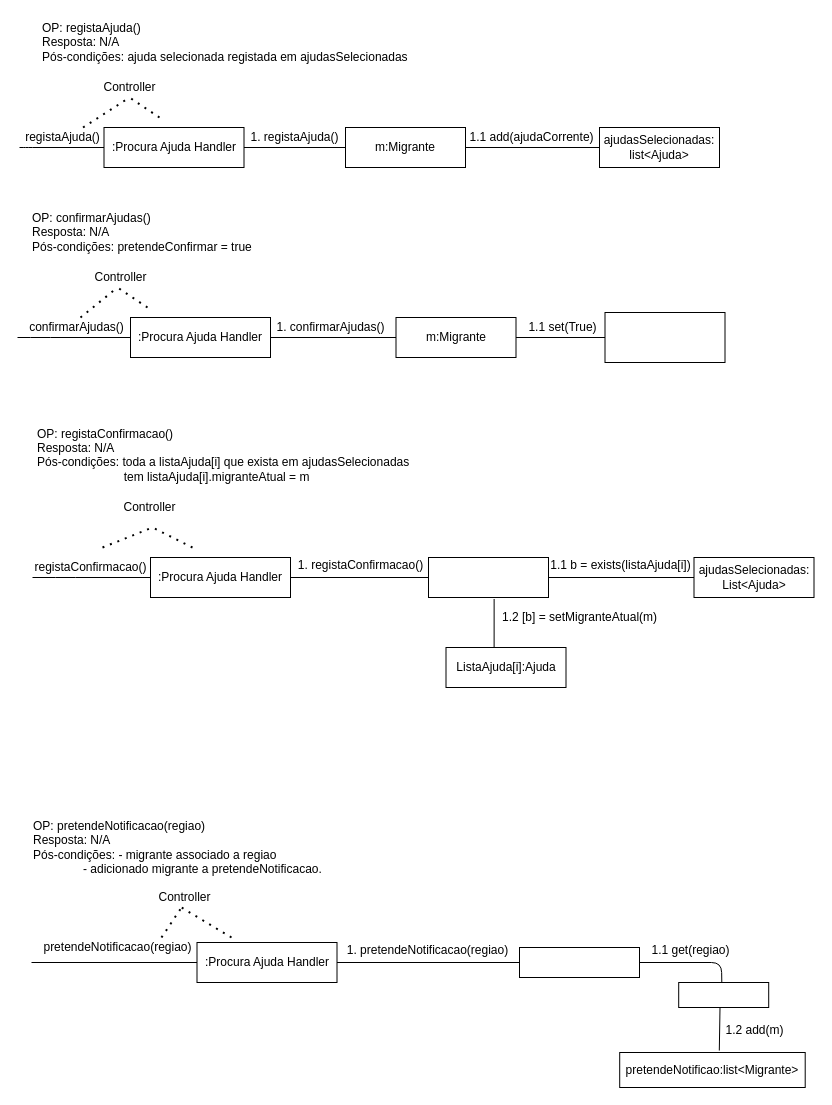
Some shapes in this 832 by 1105 pixel diagram are drawn without their labels. The centre of each missing label's shape, as x and y in pixels:
": Catálogo Ajudas" goes at pixel 488 577.
": Catálogo Regiões" goes at pixel 579 962.
": Regiao" goes at pixel 723 995.
"pretendeConfirmar: Boolean" goes at pixel 664 337.
